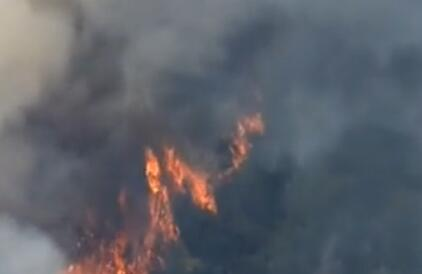fire: (62, 110, 270, 274)
smoke: (2, 0, 421, 271)
